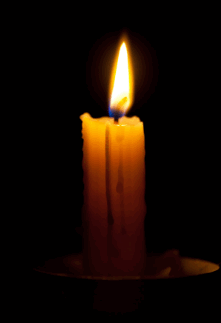Fire: (97, 31, 145, 124)
